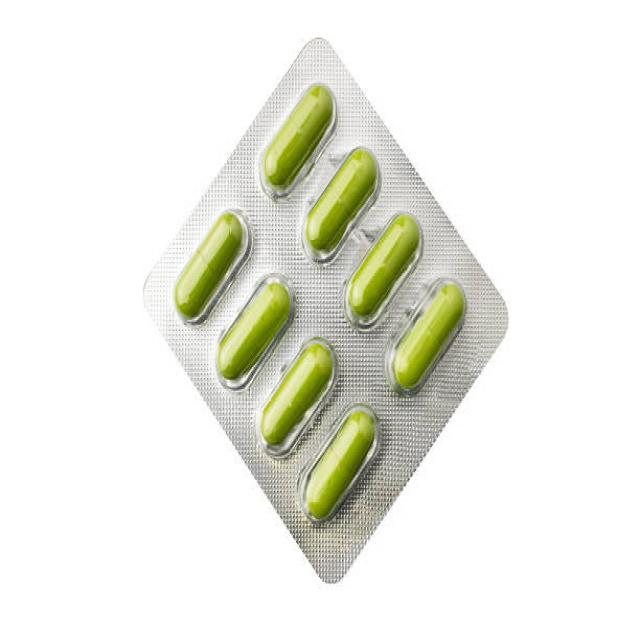Pill: (282, 376, 412, 558), (199, 231, 328, 412), (239, 304, 369, 482), (285, 111, 407, 291), (374, 251, 490, 426), (159, 183, 277, 354), (245, 53, 364, 221), (332, 183, 441, 355)
